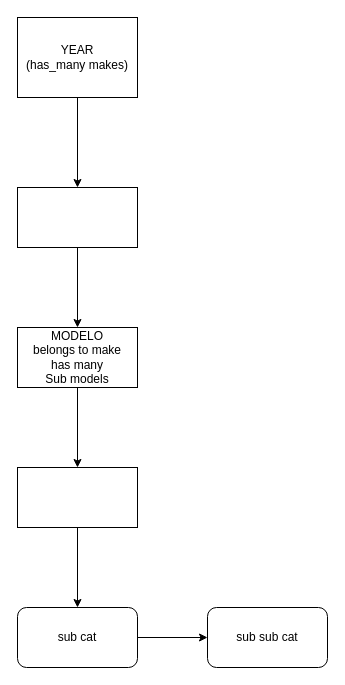
Some shapes in this 345 by 685 pixel diagram are drawn without their labels. Here are the shapes that lost their labels. From the top down, the centre of each, then its label:
At pixel 77 217: "MAKE belongs to year has many models".
At pixel 77 497: "Categories".
